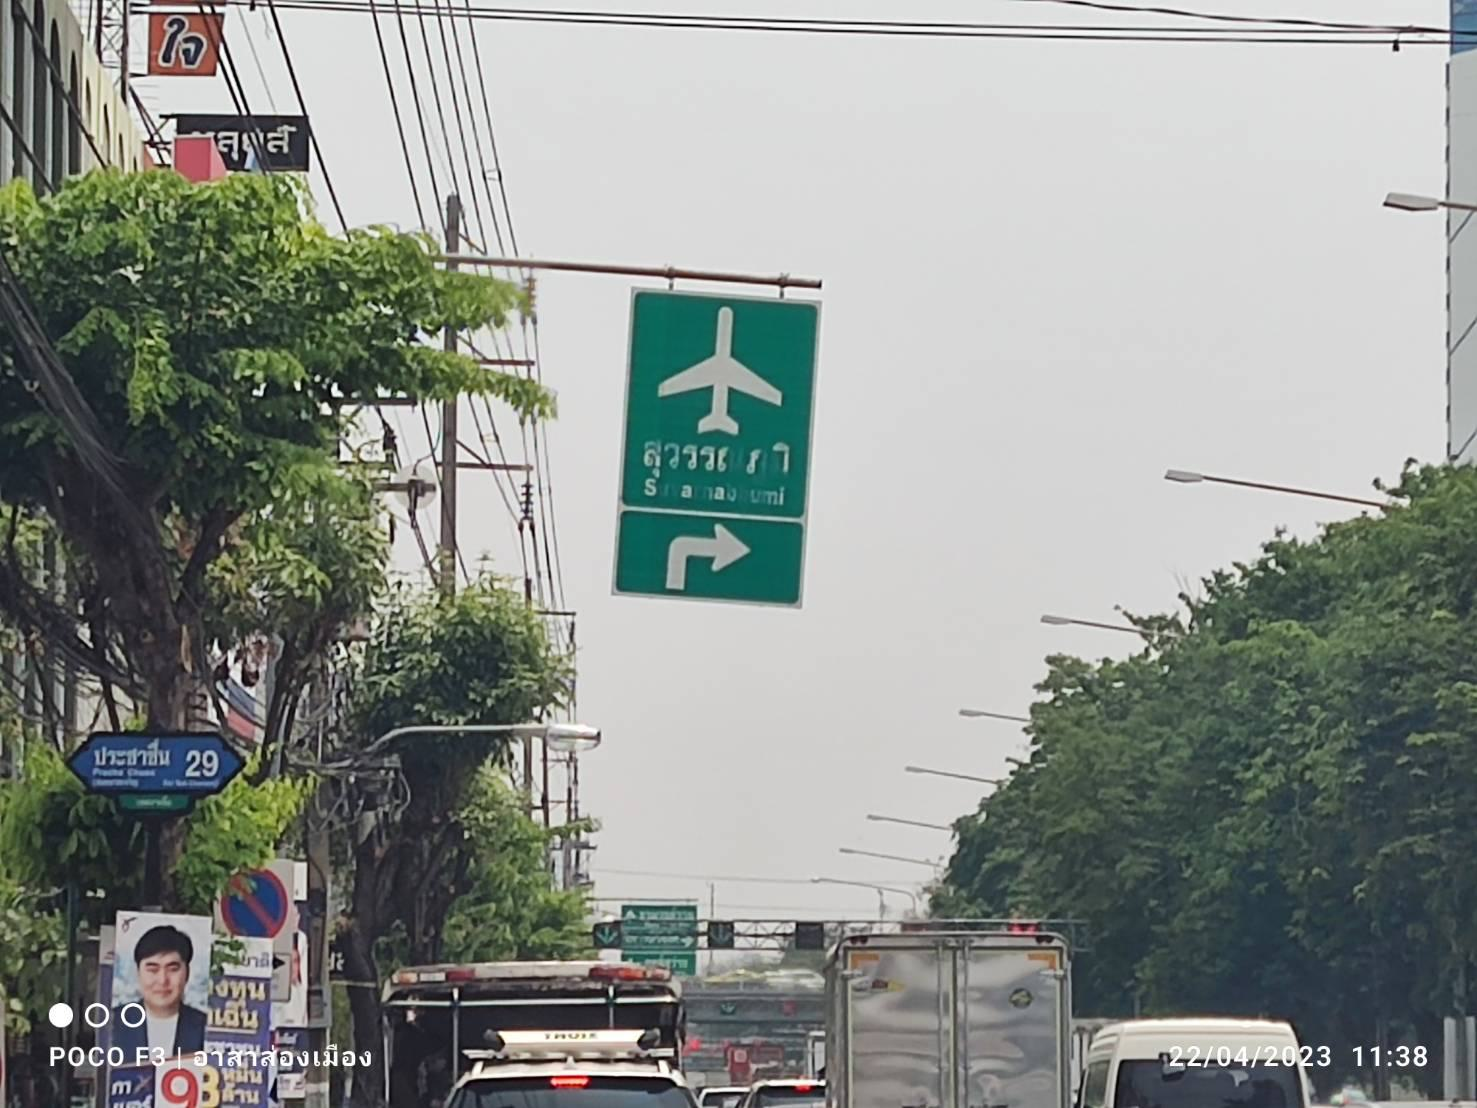Banner: (106, 912, 207, 1108)
